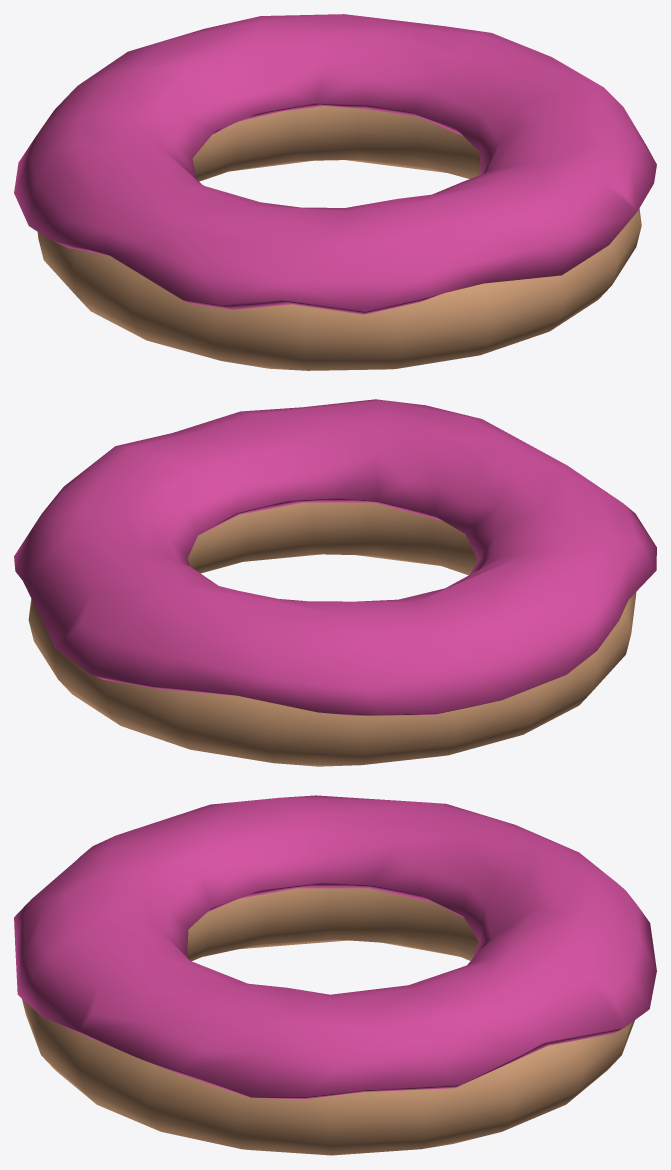
Rendered from simple_donut_small.obj.
3 renders of one model, top to bottom at view 1: azimuth 30°, elevation 25°; view 2: azimuth 150°, elevation 25°; view 3: azimuth 270°, elevation 25°, orthographic.
Visible parts, largest first — view 1: Torus.009; view 2: Torus.009; view 3: Torus.009.
Boxes of the visible parts, x1,y1,x2,y2 form: Torus.009: (14,14,656,370); Torus.009: (14,399,656,766); Torus.009: (14,795,656,1155).
Bounding box in the file's own units: 1.83 × 0.462 × 1.8.
